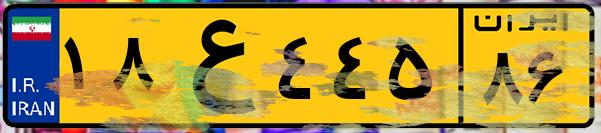1: (57, 26, 110, 100)
4: (270, 28, 330, 110), (330, 28, 385, 110)
5: (385, 28, 445, 110)
6: (525, 38, 570, 115)
8: (475, 38, 525, 113), (110, 28, 158, 98)
ع: (158, 12, 270, 120)
